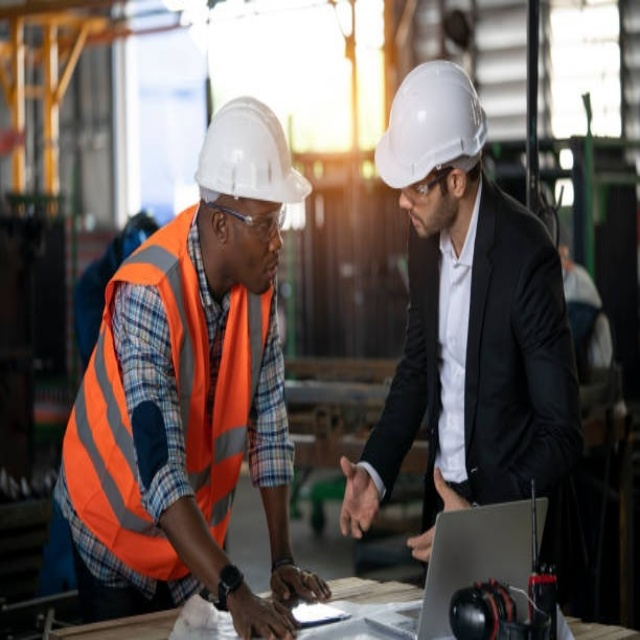Gafas: (205, 201, 289, 235), (398, 165, 457, 199)
Sin_guantes: (406, 460, 460, 565), (337, 453, 383, 541), (229, 591, 298, 635), (272, 560, 330, 605)
Sin_mascara: (251, 253, 282, 292), (399, 201, 428, 240)
